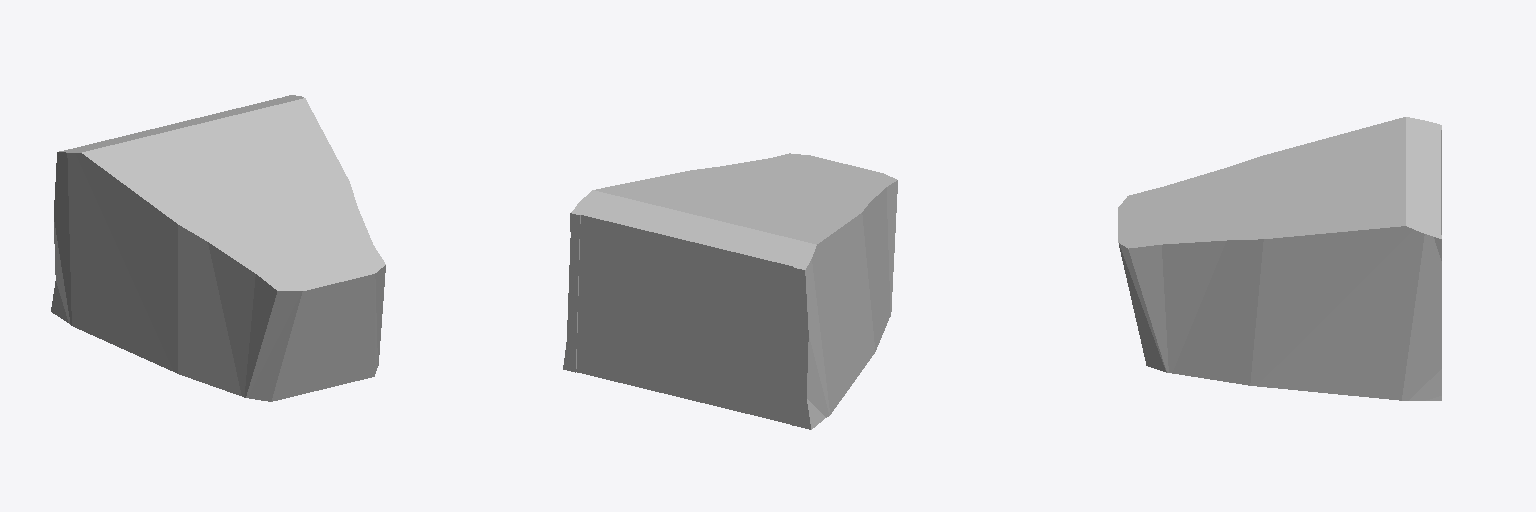
File: CollisionTempShipHull2.obj
3 views of the same model, side by side, from view 1: azimuth 30°, elevation 25°; view 2: azimuth 150°, elevation 25°; view 3: azimuth 270°, elevation 25° (orthographic).
Visible parts, largest first — view 1: col.tempshiphull2Collision.000_Cube.023; view 2: col.tempshiphull2Collision.000_Cube.023; view 3: col.tempshiphull2Collision.000_Cube.023.
Boxes of the visible parts, <box> form: col.tempshiphull2Collision.000_Cube.023: <box>51,95,385,401</box>; col.tempshiphull2Collision.000_Cube.023: <box>563,153,897,429</box>; col.tempshiphull2Collision.000_Cube.023: <box>1118,117,1441,400</box>.
Size of the model in its own units: 3.55 by 2.31 by 4.